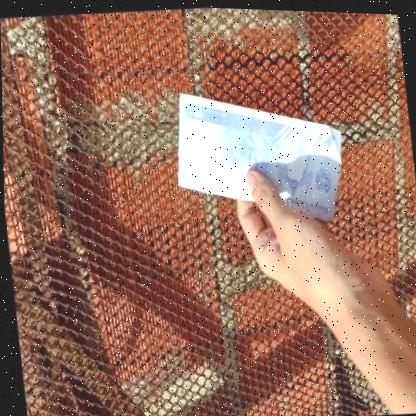ten-back-vef: (166, 77, 351, 229)
